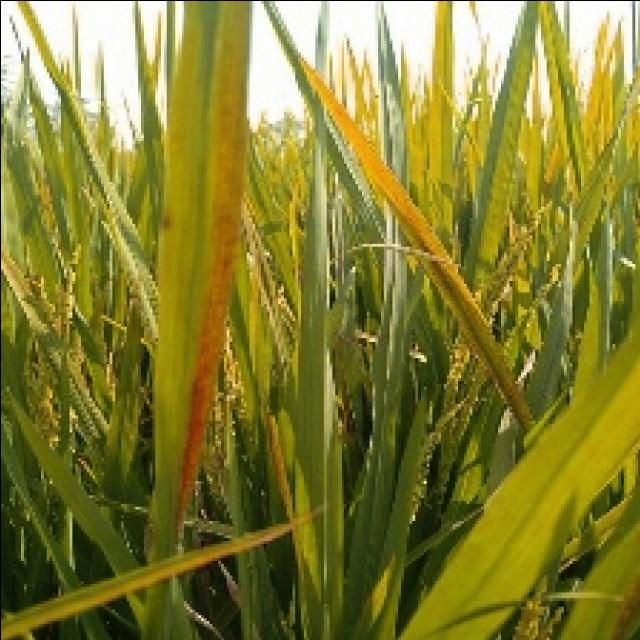Unhealthy: (171, 82, 247, 552), (159, 213, 171, 232)
